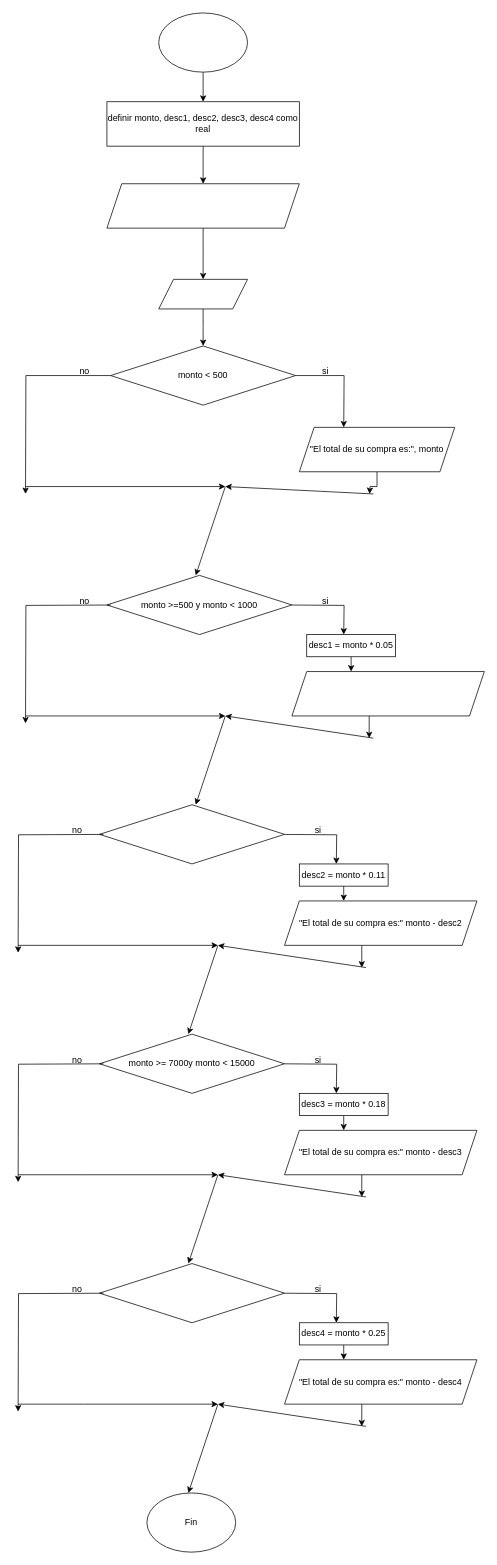
Some shapes in this 497 by 1565 pixel diagram are drawn without their labels. Here are the shapes that lost their labels. From the top down, the centre of each, then its label:
point 203,42: inicio
point 202,205: "Coloque el monto de su compra"
point 203,294: monto
point 387,693: "El total de su compra es:" monto - desc1
point 192,834: monto >=1000 y monto < 7000
point 192,1293: monto > 15000
